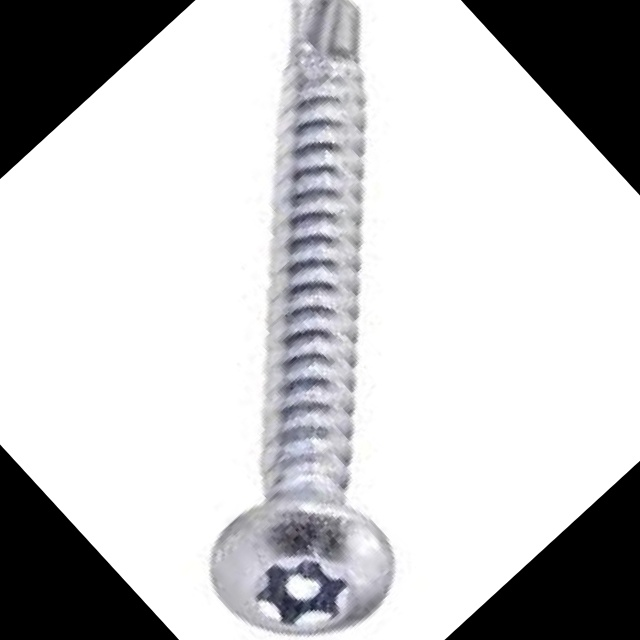torx: (187, 450, 422, 640)
